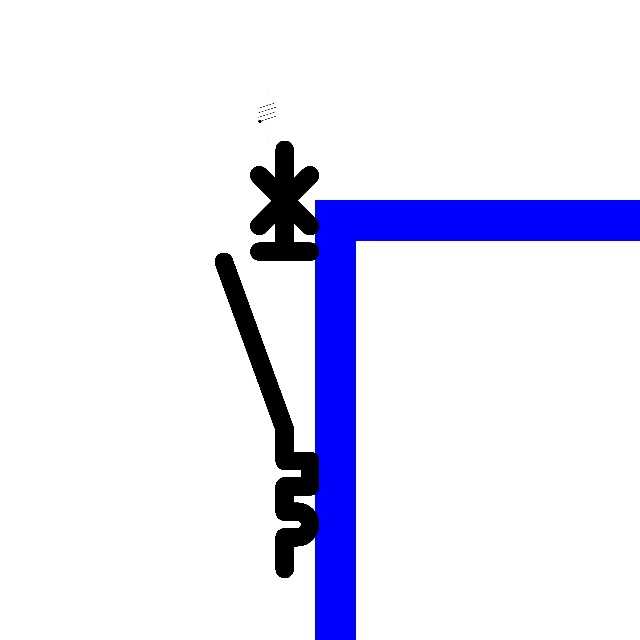interruptor_termomagnetico: (213, 138, 321, 579)
